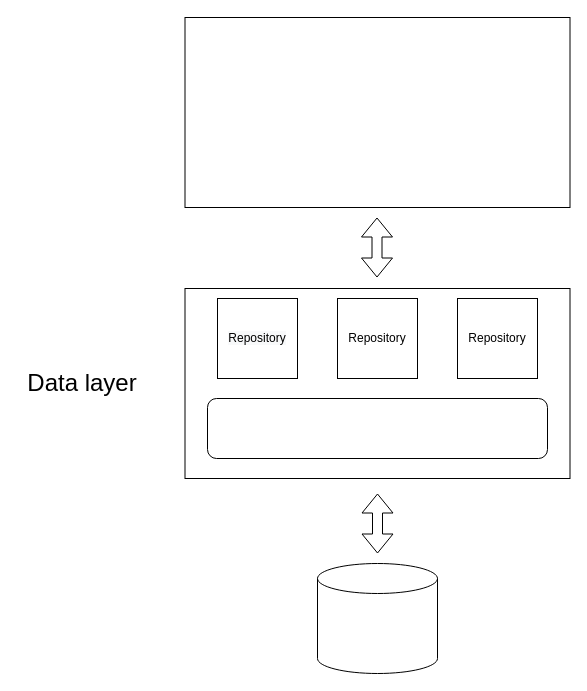
The diagram is 587 pixels wide and 691 high, and some of its shapes have lost their labels. Here are the shapes that lost their labels. From the top down, the centre of each, then its label:
the point at 377,428: Imdb Context
the point at 377,618: Imdb Database
